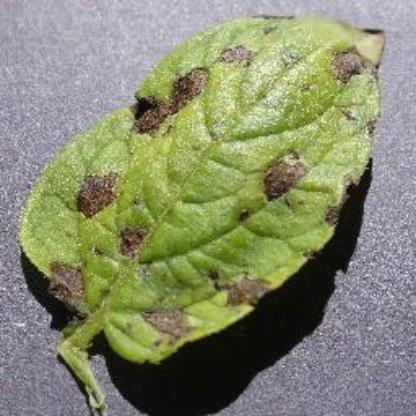Early-Blight: (16, 12, 392, 392)
